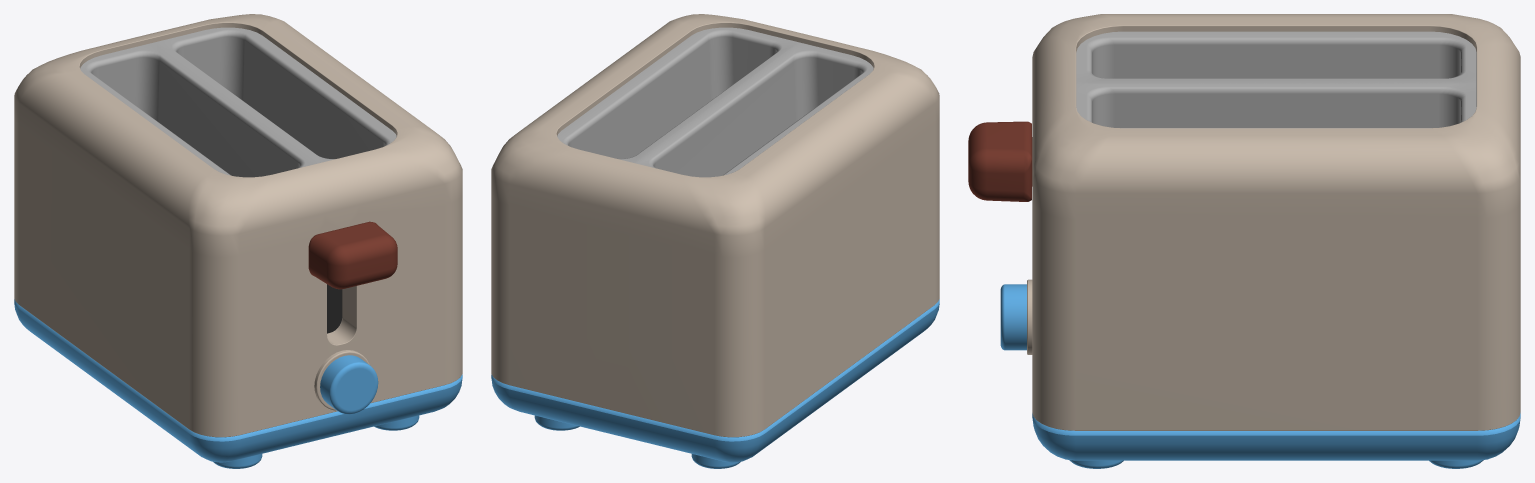
Rendered from SM_Toaster_01.fbx.
The picture shows the model from 3 angles, left to right: view 1: azimuth 30°, elevation 25°; view 2: azimuth 150°, elevation 25°; view 3: azimuth 270°, elevation 25°; orthographic projection. The views are drawn at different scales.
Parts seen in each view (by area): view 1: Cube.047, Cube.048, Cube.051, Cube.050, Cylinder.012, Cylinder.014, Cylinder.013; view 2: Cube.047, Cube.048, Cube.051, Cylinder.014; view 3: Cube.047, Cube.048, Cube.051, Cube.050, Cylinder.012, Cylinder.014.
Boxes of the visible parts, box(x1,y1,x2,y2) form: Cube.047: box(14, 14, 462, 437); Cube.048: box(80, 27, 396, 177); Cube.051: box(14, 299, 462, 462); Cube.050: box(308, 221, 397, 289); Cylinder.012: box(320, 355, 378, 414); Cylinder.014: box(213, 415, 419, 468); Cylinder.013: box(314, 350, 369, 410); Cube.047: box(491, 14, 939, 437); Cube.048: box(557, 27, 873, 177); Cube.051: box(491, 299, 939, 462); Cylinder.014: box(534, 415, 740, 468); Cube.047: box(1032, 14, 1520, 430); Cube.048: box(1076, 31, 1476, 128); Cube.051: box(1032, 413, 1520, 460); Cube.050: box(968, 121, 1032, 201); Cylinder.012: box(1000, 284, 1026, 350); Cylinder.014: box(1069, 460, 1483, 468).
Bounding box in the file's own units: 47.36 × 47.95 × 71.5.
